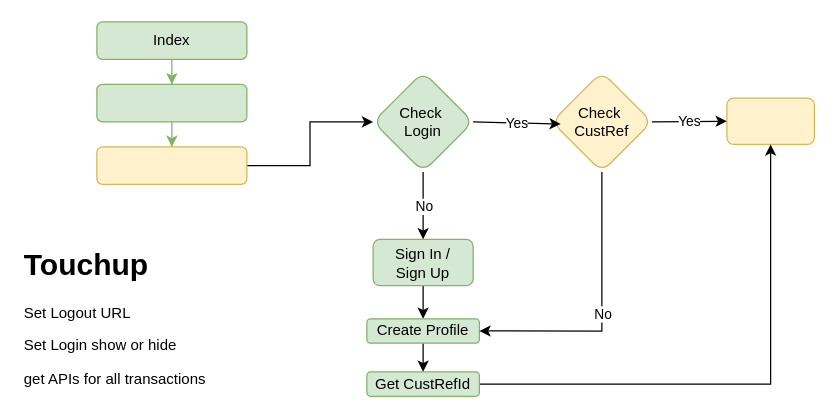
The diagram is 836 pixels wide and 419 high, and some of its shapes have lost their labels. Each missing label, with the centre of its shape:
"Buy" belongs at point (171, 165).
"Get Buy Quote" belongs at point (770, 120).
"Product Page" belongs at point (171, 102).
